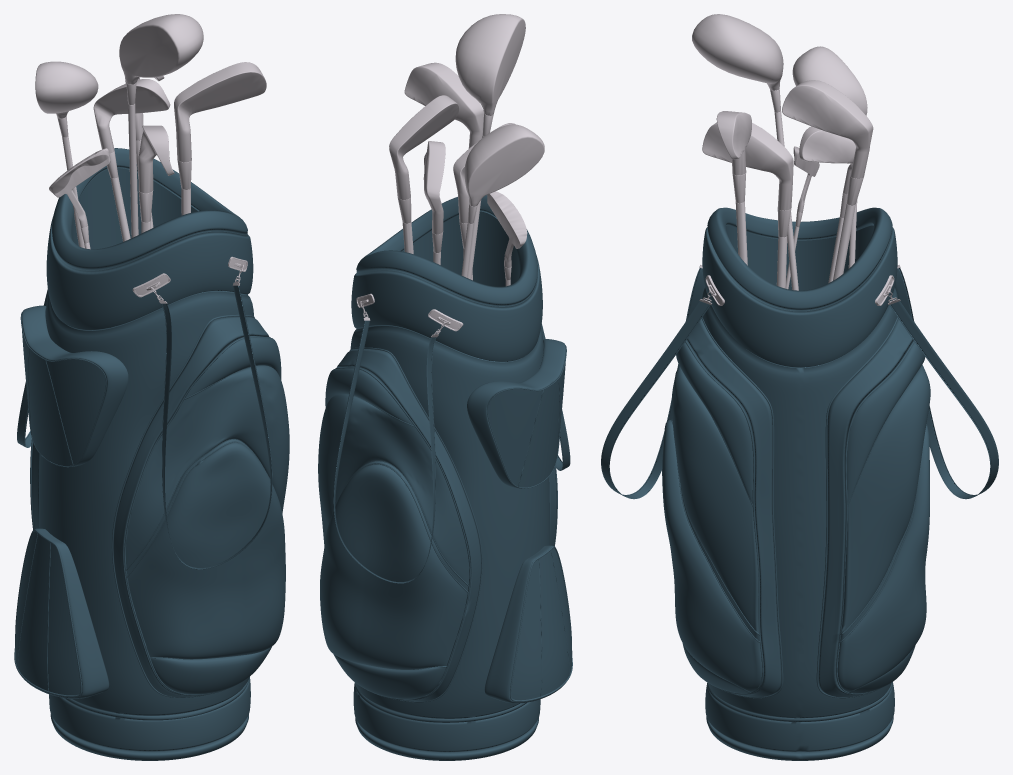
File: Golf.glb
3 renders of one model, left to right at view 1: azimuth 30°, elevation 25°; view 2: azimuth 150°, elevation 25°; view 3: azimuth 270°, elevation 25°, orthographic. The views are drawn at different scales.
Visible parts, largest first — view 1: golf_bag_golf_bag_0.001, golf_clubs_golf_bag_metal_0.001, Default group initialShadingGroup polySurface1445 polySurfa., golf_bag_straps_golf_bag_0.001, golf_bag_straps_golf_bag_metal_0.001; view 2: golf_bag_golf_bag_0.001, golf_clubs_golf_bag_metal_0.001, Default group initialShadingGroup polySurface1445 polySurfa., golf_bag_straps_golf_bag_0.001, golf_bag_straps_golf_bag_metal_0.001; view 3: golf_bag_golf_bag_0.001, golf_clubs_golf_bag_metal_0.001, golf_bag_straps_golf_bag_0.001, Default group initialShadingGroup polySurface1445 polySurfa., golf_bag_straps_golf_bag_metal_0.001.
Boxes of the visible parts, x1=… form: golf_bag_golf_bag_0.001: x1=14, y1=148, x2=289, y2=760; golf_clubs_golf_bag_metal_0.001: x1=35, y1=14, x2=266, y2=249; Default group initialShadingGroup polySurface1445 polySurfa.: x1=71, y1=168, x2=197, y2=249; golf_bag_straps_golf_bag_0.001: x1=17, y1=285, x2=272, y2=569; golf_bag_straps_golf_bag_metal_0.001: x1=132, y1=256, x2=247, y2=303; golf_bag_golf_bag_0.001: x1=318, y1=195, x2=572, y2=760; golf_clubs_golf_bag_metal_0.001: x1=389, y1=14, x2=544, y2=286; Default group initialShadingGroup polySurface1445 polySurfa.: x1=402, y1=211, x2=519, y2=286; golf_bag_straps_golf_bag_0.001: x1=333, y1=320, x2=570, y2=583; golf_bag_straps_golf_bag_metal_0.001: x1=356, y1=293, x2=463, y2=337; golf_bag_golf_bag_0.001: x1=662, y1=207, x2=930, y2=760; golf_clubs_golf_bag_metal_0.001: x1=692, y1=14, x2=873, y2=290; golf_bag_straps_golf_bag_0.001: x1=601, y1=268, x2=998, y2=499; Default group initialShadingGroup polySurface1445 polySurfa.: x1=726, y1=225, x2=873, y2=290; golf_bag_straps_golf_bag_metal_0.001: x1=699, y1=264, x2=900, y2=305.
Bounding box in the file's own units: 0.5369 × 1.67 × 0.864.
